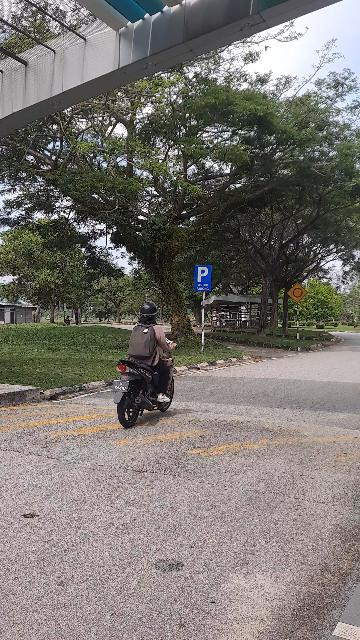motorcycle: (114, 290, 185, 431)
